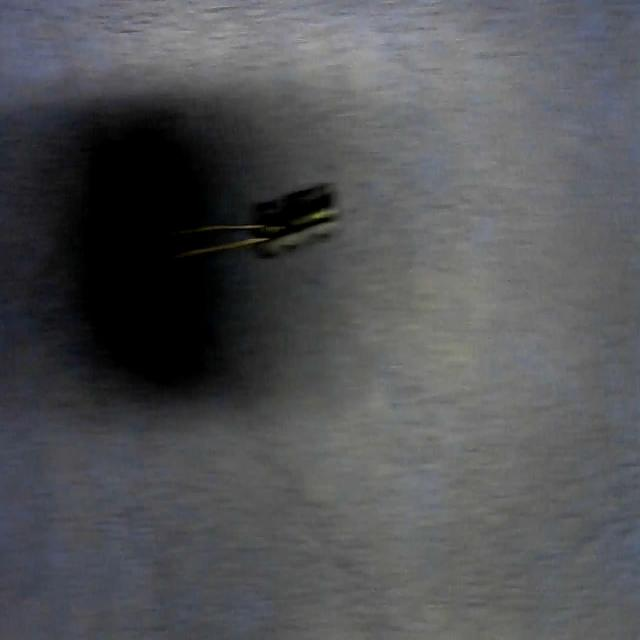capacitor: (178, 190, 338, 262)
